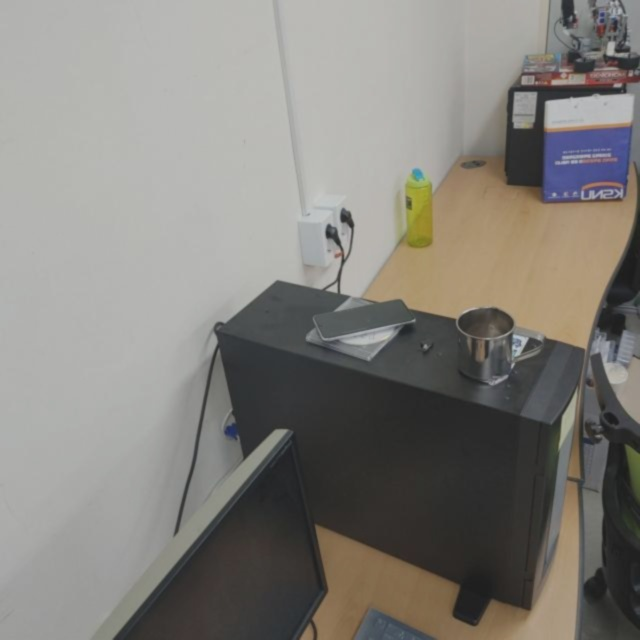cup: (453, 306, 547, 382)
phone: (312, 297, 415, 343)
